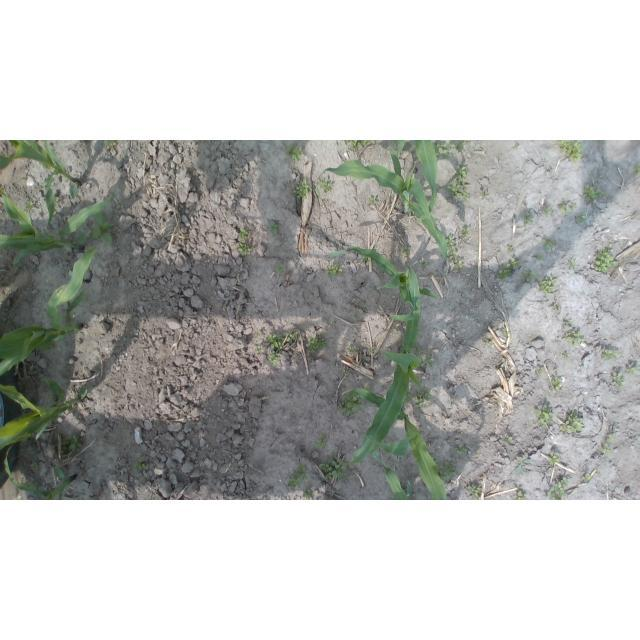Maize: (334, 264, 422, 469), (317, 145, 448, 259), (0, 245, 96, 375), (341, 388, 447, 501), (1, 187, 118, 265), (0, 141, 80, 232), (0, 377, 88, 449), (328, 245, 439, 302), (3, 444, 78, 500), (396, 140, 439, 220), (370, 450, 412, 500)
Weeds: (319, 454, 350, 481), (92, 212, 116, 245), (556, 140, 584, 162), (287, 464, 312, 488), (595, 247, 618, 273), (340, 395, 364, 417), (560, 412, 584, 434), (496, 259, 520, 279), (292, 180, 312, 204), (534, 404, 554, 427), (447, 182, 470, 201), (306, 337, 327, 355), (437, 462, 456, 481), (432, 142, 453, 159), (413, 391, 431, 409), (547, 482, 565, 500), (63, 435, 82, 452), (266, 333, 284, 350), (515, 456, 531, 475), (285, 145, 304, 161), (539, 275, 555, 293), (454, 165, 470, 183), (583, 185, 598, 202), (446, 236, 457, 259), (565, 332, 584, 345), (325, 264, 343, 277), (315, 433, 327, 451), (39, 340, 57, 352), (467, 484, 481, 499), (268, 219, 281, 235), (236, 244, 252, 257), (452, 444, 469, 456), (520, 270, 537, 282), (548, 376, 562, 390), (318, 178, 332, 192), (237, 227, 250, 242), (612, 371, 624, 387), (542, 238, 558, 250), (452, 140, 468, 152), (423, 356, 437, 369), (602, 349, 617, 360), (549, 452, 560, 466), (523, 213, 534, 226), (275, 262, 286, 275), (511, 490, 525, 500), (24, 201, 36, 212), (268, 354, 280, 365), (287, 331, 300, 341), (600, 444, 613, 454), (558, 201, 567, 215), (134, 460, 145, 471), (303, 489, 314, 499), (625, 363, 635, 374), (104, 140, 117, 148), (536, 365, 546, 375), (454, 260, 464, 269), (401, 246, 411, 255), (561, 320, 572, 328), (460, 228, 471, 236), (417, 259, 427, 267), (352, 313, 363, 320), (347, 347, 356, 355), (583, 473, 591, 482), (560, 476, 568, 485), (578, 212, 587, 220), (350, 140, 359, 148), (634, 166, 640, 177), (53, 196, 61, 204), (83, 230, 91, 238), (342, 369, 350, 377), (607, 434, 615, 442), (544, 207, 552, 215), (254, 345, 263, 352), (416, 349, 425, 356), (484, 339, 493, 346), (406, 393, 413, 402), (51, 396, 58, 405), (431, 455, 438, 464), (480, 190, 489, 197), (536, 253, 544, 260), (364, 385, 372, 392), (505, 436, 513, 443), (502, 328, 508, 337), (368, 198, 377, 204), (363, 256, 373, 261), (507, 245, 514, 252), (362, 140, 371, 145), (255, 330, 262, 336), (31, 461, 38, 467), (552, 305, 559, 311), (568, 263, 574, 270), (562, 352, 568, 358), (599, 192, 605, 197), (571, 204, 577, 209), (55, 463, 62, 467), (1, 300, 4, 309), (20, 176, 25, 180), (414, 168, 419, 172), (399, 152, 403, 157), (599, 141, 605, 144), (40, 381, 46, 384), (343, 141, 349, 144), (588, 318, 592, 322)
